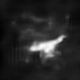plane: (27, 33, 69, 62)
